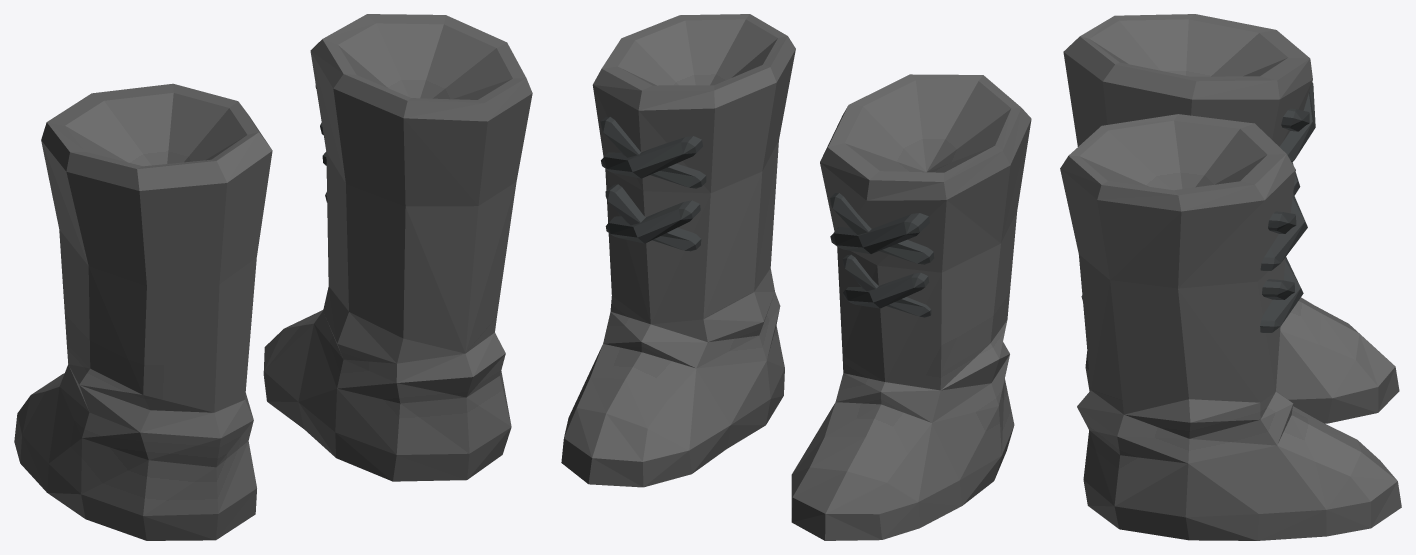
File: CharSkyKid_Feet_AP10Overalls.glb
3 renders of one model, left to right at view 1: azimuth 30°, elevation 25°; view 2: azimuth 150°, elevation 25°; view 3: azimuth 270°, elevation 25°, orthographic. The views are drawn at different scales.
Parts seen in each view (by area): view 1: CharSkyKid_Feet_AP10Overalls; view 2: CharSkyKid_Feet_AP10Overalls; view 3: CharSkyKid_Feet_AP10Overalls.
Boxes of the visible parts, <box> form: CharSkyKid_Feet_AP10Overalls: <box>14,14,532,540</box>; CharSkyKid_Feet_AP10Overalls: <box>561,14,1031,540</box>; CharSkyKid_Feet_AP10Overalls: <box>1060,14,1401,540</box>.
Size of the model in its own units: 3.14 by 2.65 by 2.29.
1 material, 1 textured.
